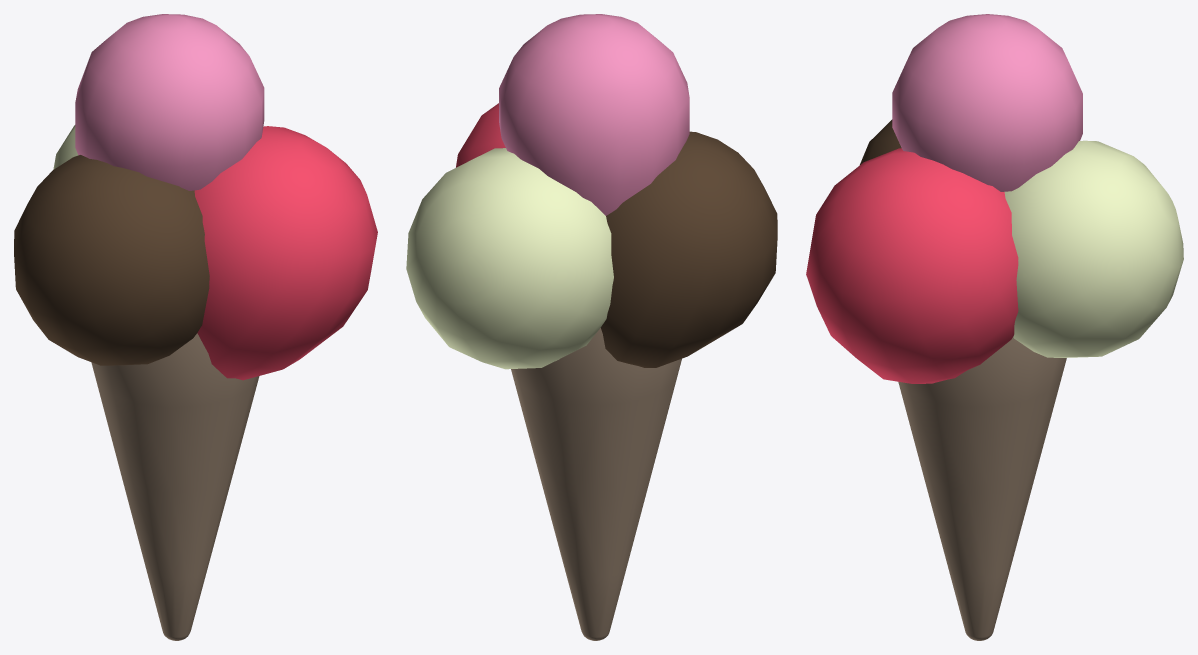
The model's file is IceCream02.fbx.
3 renders of one model, left to right at view 1: azimuth 30°, elevation 25°; view 2: azimuth 150°, elevation 25°; view 3: azimuth 270°, elevation 25°, orthographic.
Parts seen in each view (by area): view 1: IceCream02; view 2: IceCream02; view 3: IceCream02.
Boxes of the visible parts, x1,y1,x2,y2 form: IceCream02: (14, 14, 377, 640); IceCream02: (406, 14, 777, 640); IceCream02: (806, 14, 1183, 640).
Size of the model in its own units: 7.39 by 13.7 by 7.64.
